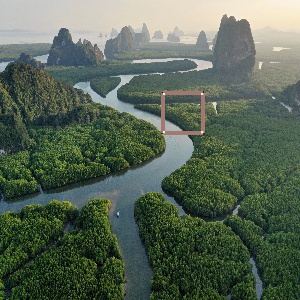square: (160, 90, 206, 136)
